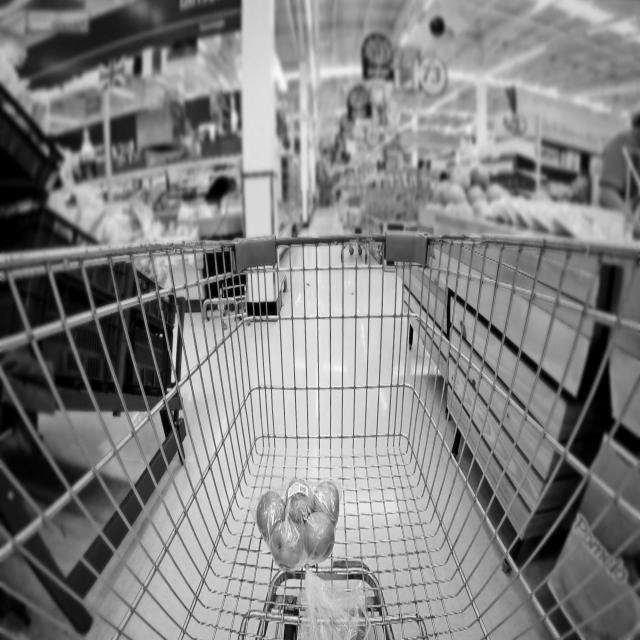apple: (255, 474, 343, 572)
